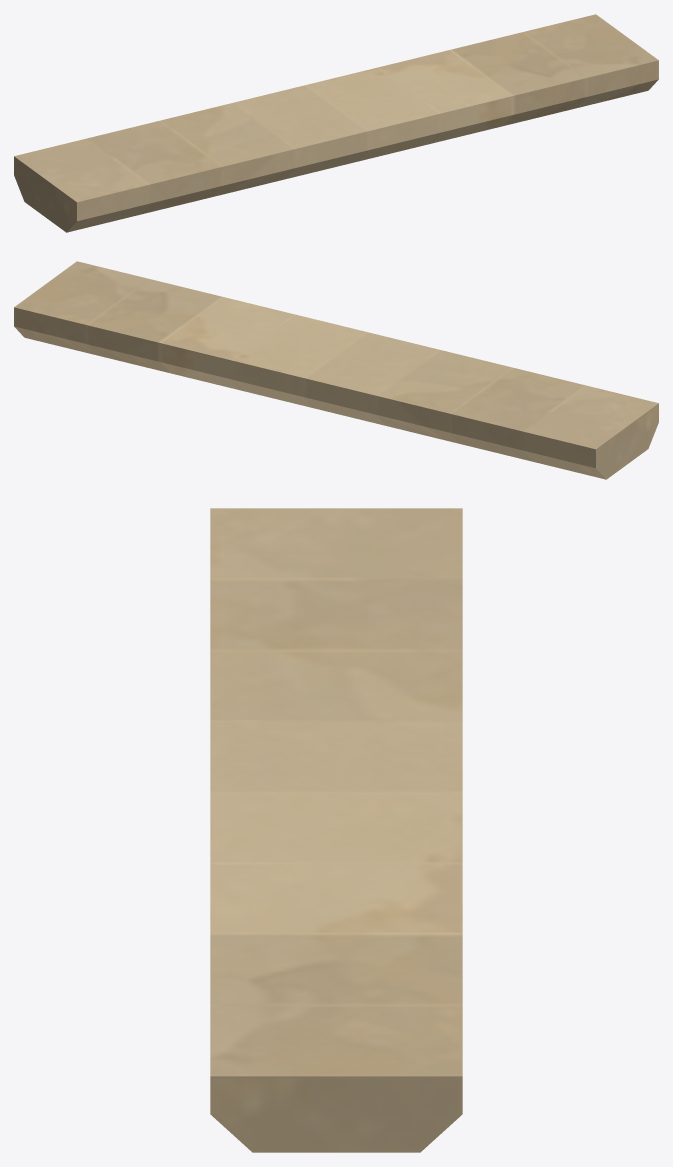
3 views of the same model, one above another, from view 1: azimuth 30°, elevation 25°; view 2: azimuth 150°, elevation 25°; view 3: azimuth 270°, elevation 25° (orthographic). The views are drawn at different scales.
Visible parts, largest first — view 1: L18_Baked; view 2: L18_Baked; view 3: L18_Baked.
Boxes of the visible parts, x1,y1,x2,y2 form: L18_Baked: (14, 14, 658, 232); L18_Baked: (14, 261, 658, 479); L18_Baked: (210, 508, 462, 1152).
Bounding box in the file's own units: 400 × 25 × 75.
